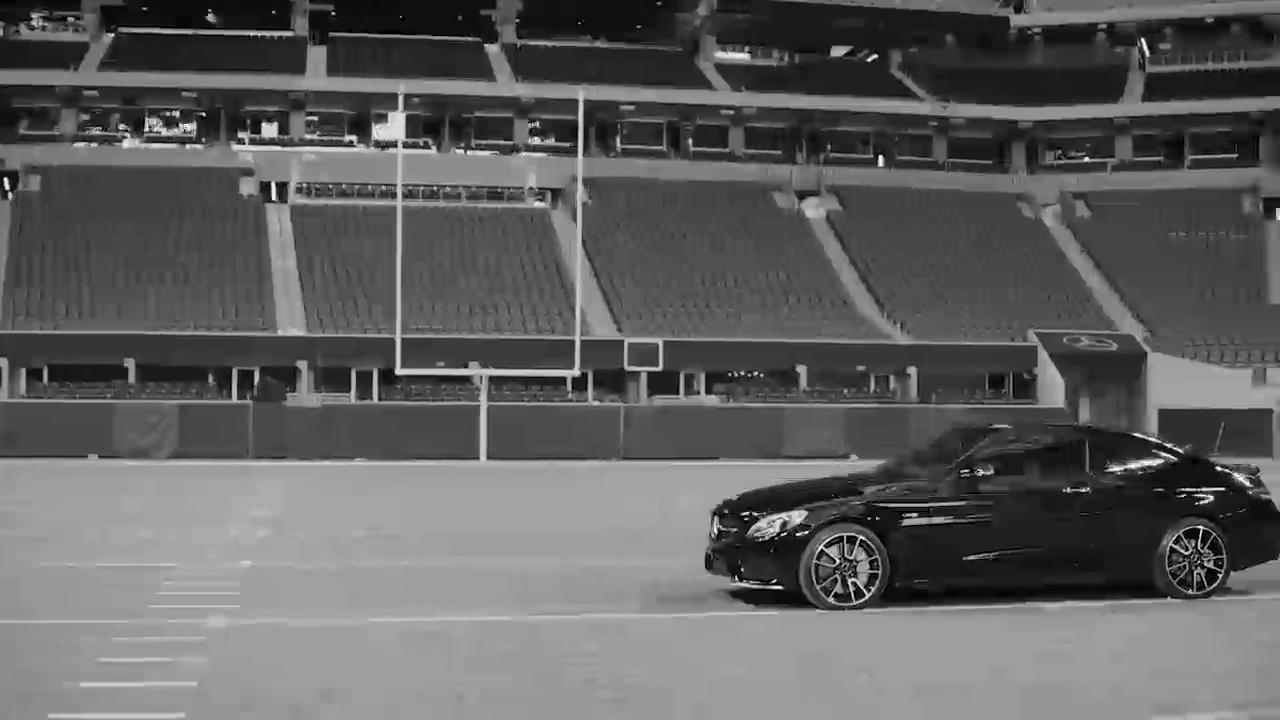car: (698, 419, 1280, 616)
